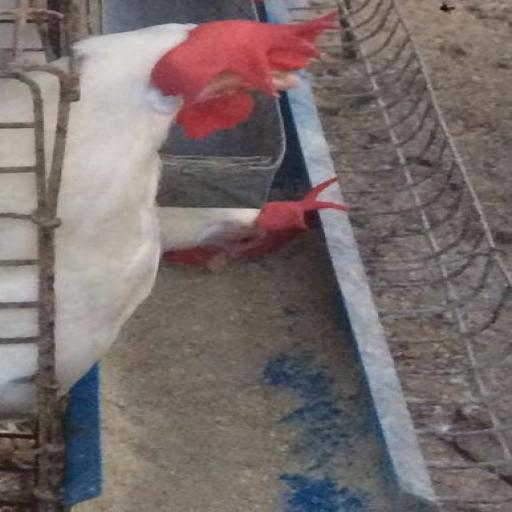healthy: (172, 0, 351, 136)
